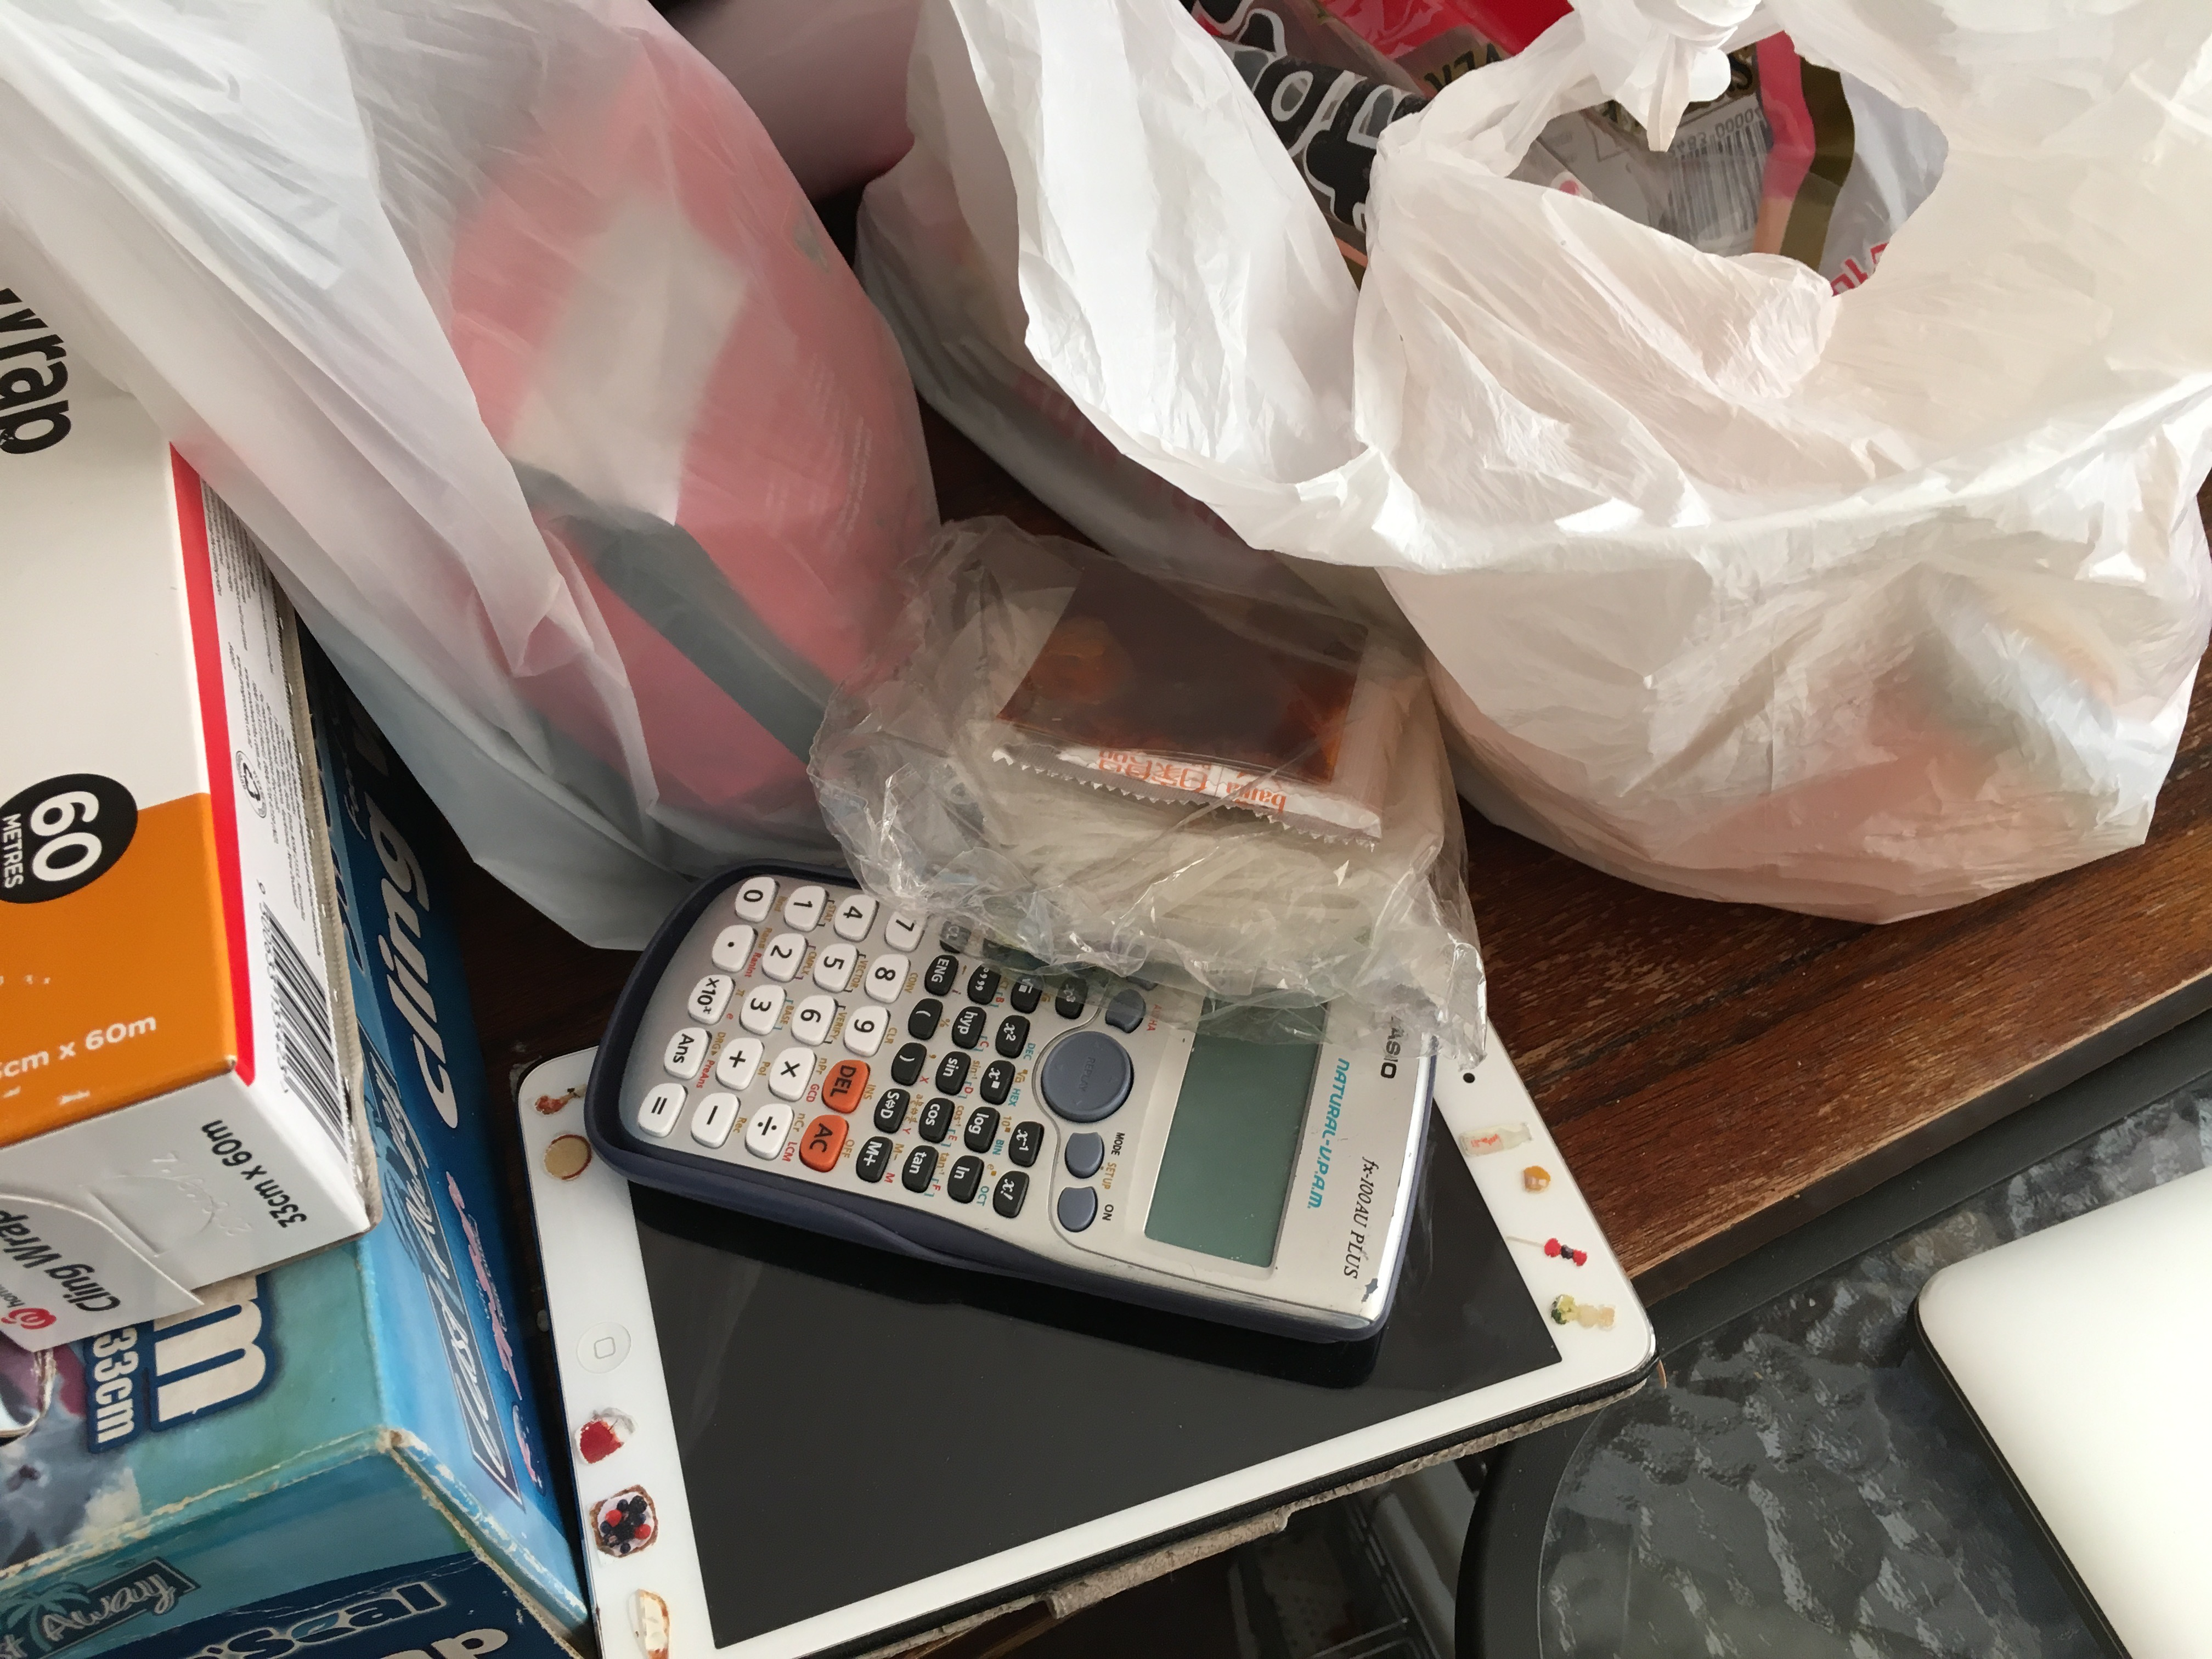Calculator: (583, 845, 1449, 1351)
